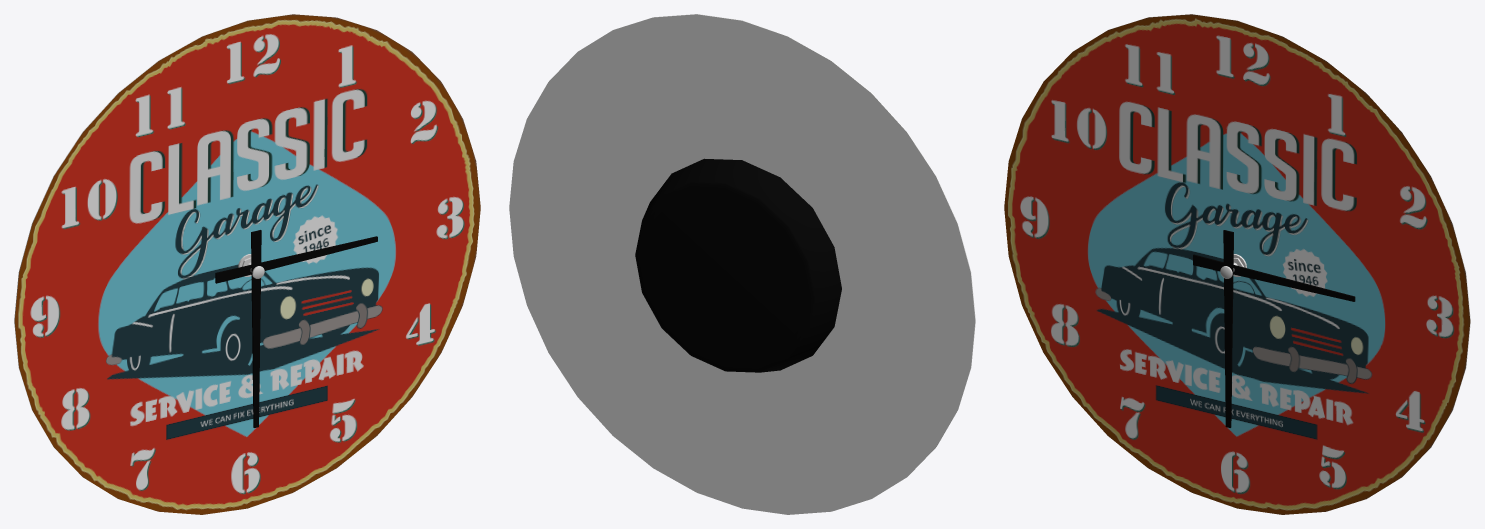
3 views of the same model, side by side, from view 1: azimuth 30°, elevation 25°; view 2: azimuth 150°, elevation 25°; view 3: azimuth 330°, elevation 25° (orthographic).
Parts seen in each view (by area): view 1: Classic_Garage_Clock_Body_2, Classic_Garage_Clock_Minute_Hand_1, Classic_Garage_Clock_Hour_Hand_0; view 2: Classic_Garage_Clock_Body_2; view 3: Classic_Garage_Clock_Body_2, Classic_Garage_Clock_Minute_Hand_1, Classic_Garage_Clock_Hour_Hand_0.
Boxes of the visible parts, left/top/right/bottom form: Classic_Garage_Clock_Body_2: left=14, top=14, right=480, bottom=514; Classic_Garage_Clock_Minute_Hand_1: left=251, top=230, right=261, bottom=427; Classic_Garage_Clock_Hour_Hand_0: left=215, top=236, right=377, bottom=283; Classic_Garage_Clock_Body_2: left=509, top=14, right=975, bottom=514; Classic_Garage_Clock_Body_2: left=1004, top=14, right=1470, bottom=514; Classic_Garage_Clock_Minute_Hand_1: left=1223, top=230, right=1233, bottom=427; Classic_Garage_Clock_Hour_Hand_0: left=1193, top=254, right=1355, bottom=301.
Size of what is drawn, in the model's own units: 0.2987 by 0.2987 by 0.0329.
Materials: 5 (1 with a texture image).
